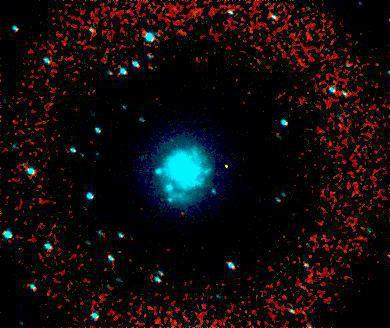star: (210, 152, 240, 182)
